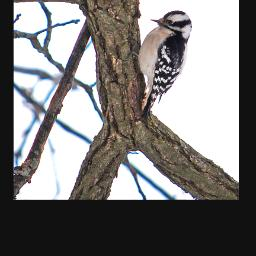Woodpecker: (124, 10, 192, 120)
